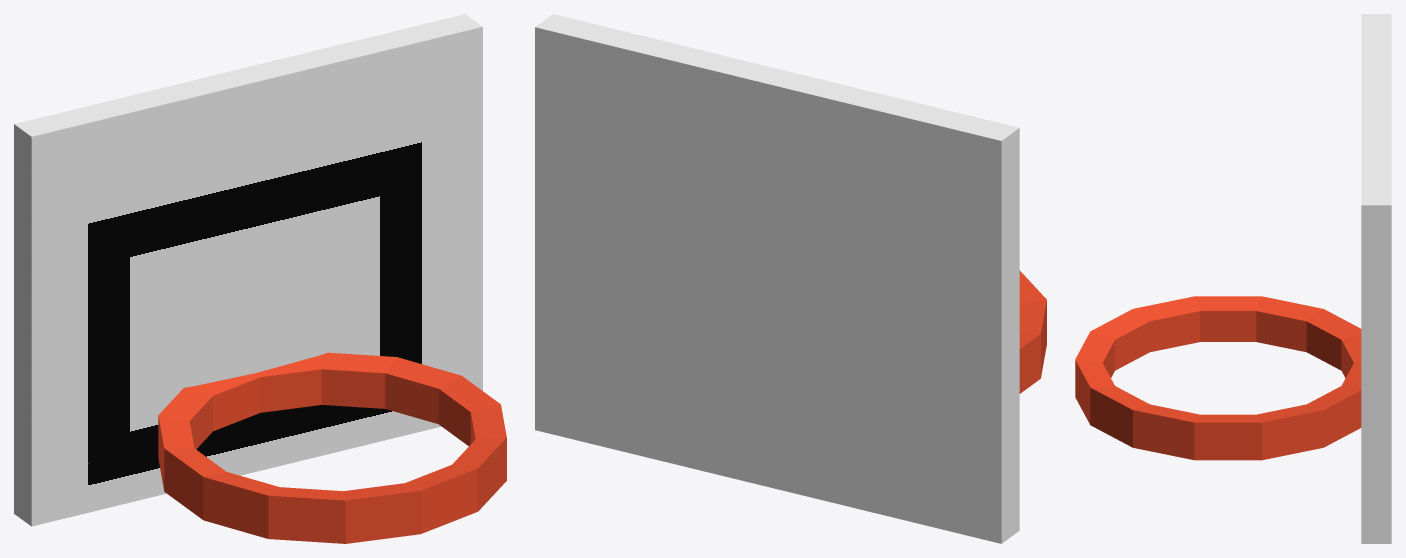
File: hoop.dae
3 views of the same model, side by side, from view 1: azimuth 30°, elevation 25°; view 2: azimuth 150°, elevation 25°; view 3: azimuth 270°, elevation 25° (orthographic). The views are drawn at different scales.
Parts seen in each view (by area): view 1: hoop; view 2: hoop; view 3: hoop.
Boxes of the visible parts, x1=… form: hoop: x1=14, y1=14, x2=506, y2=543; hoop: x1=535, y1=14, x2=1046, y2=543; hoop: x1=1075, y1=14, x2=1391, y2=543.
Bounding box in the file's own units: 0.2957 × 0.2068 × 0.2441.
1 material, 1 textured.
